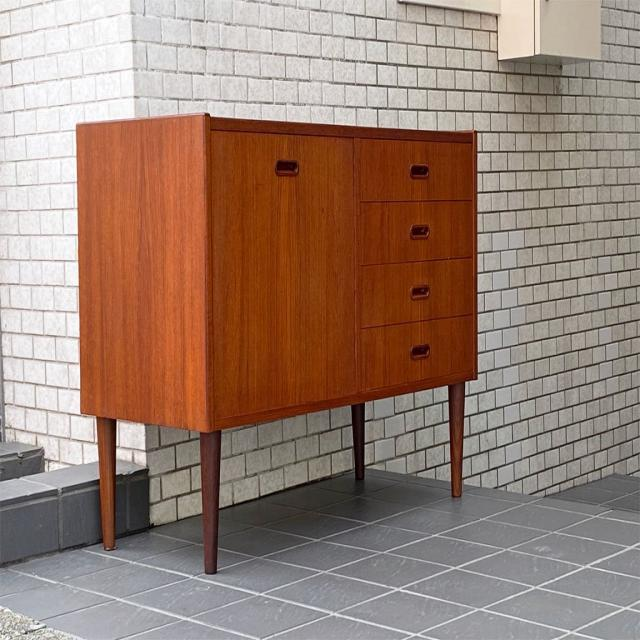vintage shelf: (70, 109, 482, 573)
